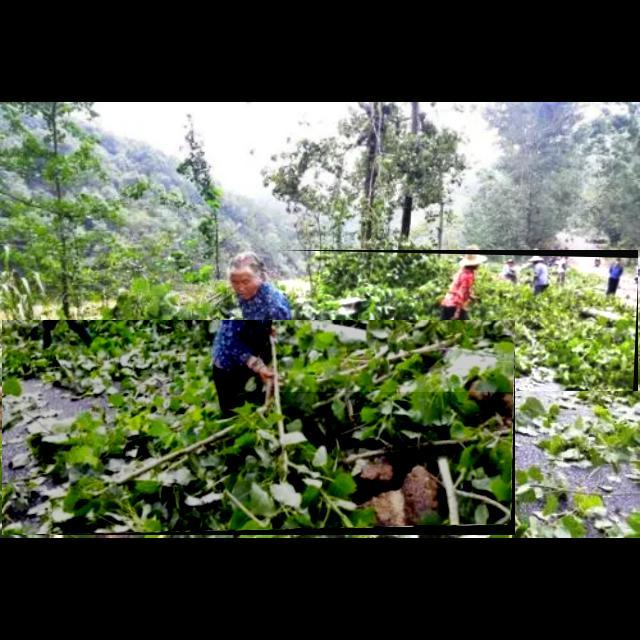fallen_tree: (2, 320, 516, 536), (279, 250, 639, 392)
